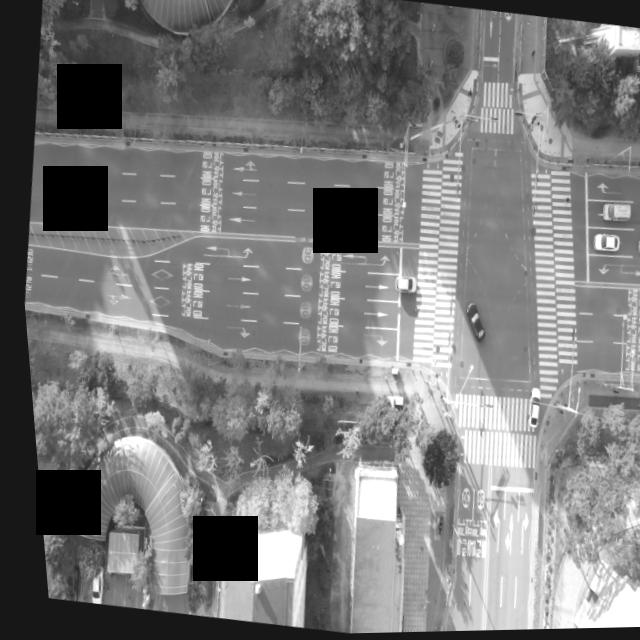car: (458, 302, 484, 344), (518, 388, 537, 431), (597, 201, 630, 225), (587, 233, 614, 255), (390, 276, 413, 296), (78, 573, 92, 604), (634, 237, 640, 258)
